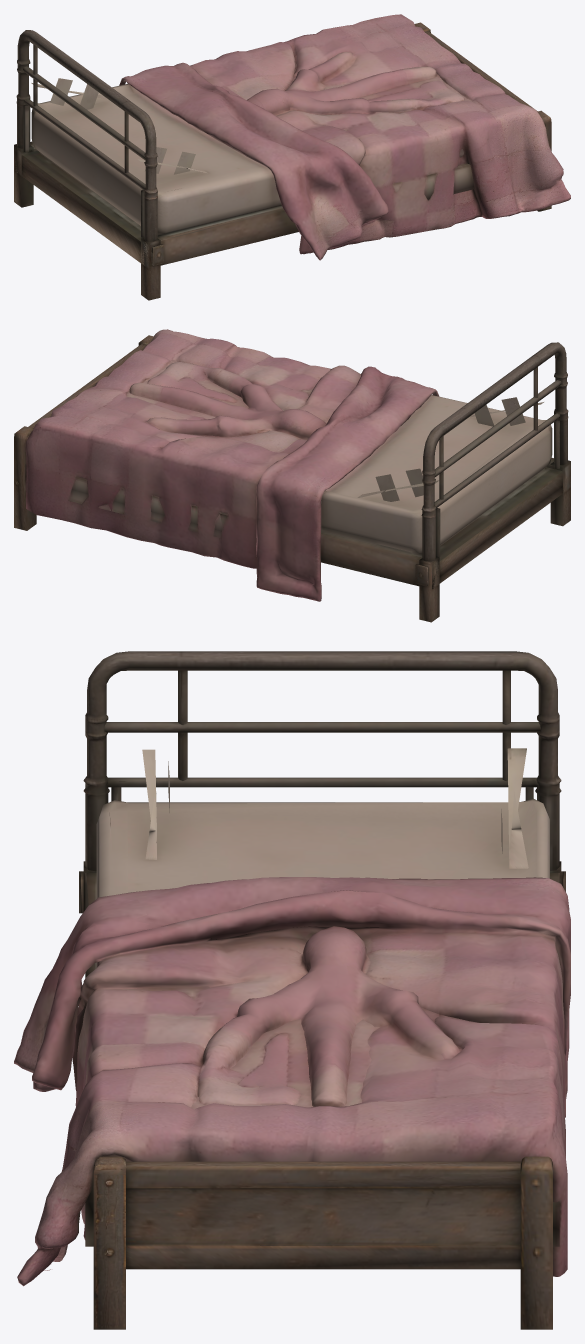
3 views of the same model, one above another, from view 1: azimuth 30°, elevation 25°; view 2: azimuth 150°, elevation 25°; view 3: azimuth 270°, elevation 25° (orthographic). The views are drawn at different scales.
Visible parts, largest first — view 1: tripo_node_c048bd2b-f4c1-4625-824b-f8e30dece9d3; view 2: tripo_node_c048bd2b-f4c1-4625-824b-f8e30dece9d3; view 3: tripo_node_c048bd2b-f4c1-4625-824b-f8e30dece9d3.
Part boxes in pixels (x1,y1,x2,y2): tripo_node_c048bd2b-f4c1-4625-824b-f8e30dece9d3: (14,14,570,300); tripo_node_c048bd2b-f4c1-4625-824b-f8e30dece9d3: (14,329,570,622); tripo_node_c048bd2b-f4c1-4625-824b-f8e30dece9d3: (14,651,570,1329).
Bounding box in the file's own units: 0.998 × 0.4395 × 0.6699.
Materials: 1 (1 with a texture image).
